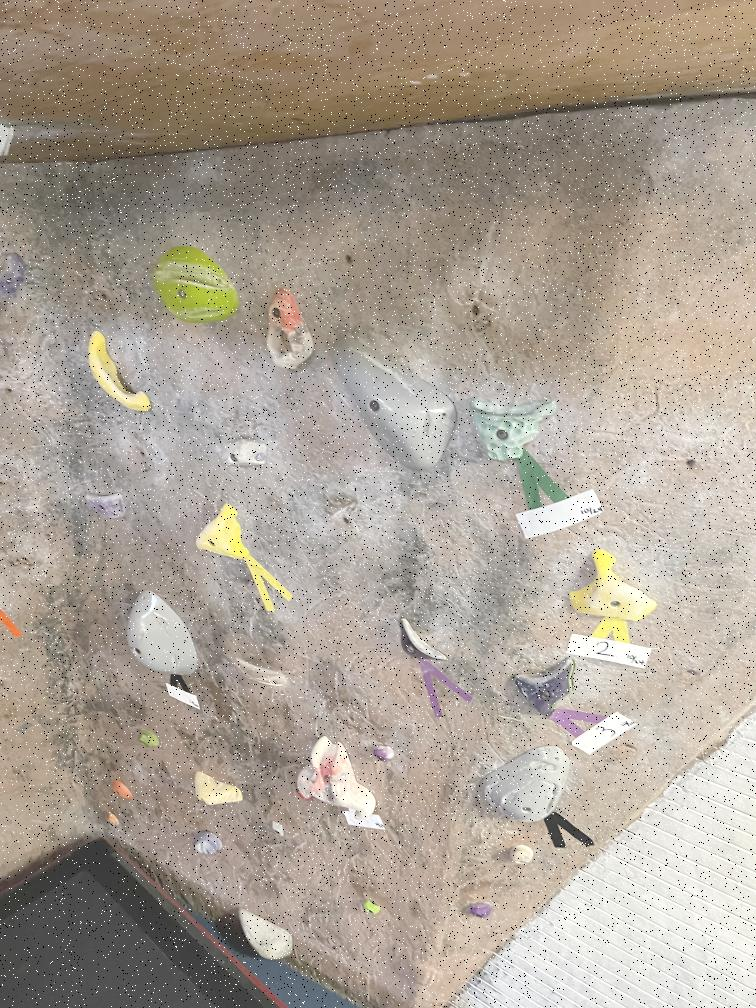Crimp: (215, 432, 283, 478)
Edges: (386, 609, 457, 680), (228, 656, 288, 686)
Foothold: (188, 828, 228, 864), (505, 837, 545, 867), (467, 894, 500, 925), (368, 740, 403, 765), (359, 894, 392, 920), (110, 780, 139, 802), (100, 812, 126, 830)
Hand-holds: (290, 723, 378, 832), (568, 550, 660, 632), (502, 652, 585, 732), (195, 487, 252, 565), (0, 247, 42, 314), (132, 729, 163, 754)
Jug: (464, 381, 575, 480), (71, 331, 157, 421), (229, 904, 297, 964), (82, 482, 136, 540)
Pinch: (185, 774, 249, 811)
Pocket: (258, 277, 324, 391)
Sloper: (330, 339, 455, 491), (150, 244, 242, 332), (121, 586, 202, 684), (480, 749, 578, 824)
